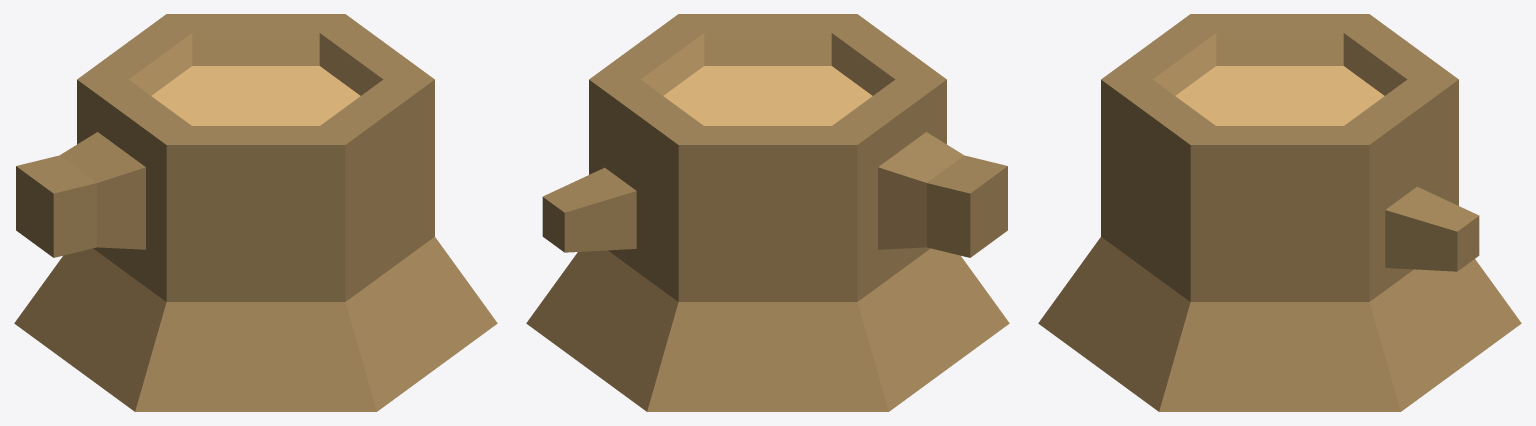
Rendered from naturePack_080.obj.
The picture shows the model from 3 angles, left to right: view 1: azimuth 30°, elevation 25°; view 2: azimuth 150°, elevation 25°; view 3: azimuth 270°, elevation 25°; orthographic projection.
Parts seen in each view (by area): view 1: Mesh1_Group1_Model.057; view 2: Mesh1_Group1_Model.057; view 3: Mesh1_Group1_Model.057.
Boxes of the visible parts, box(x1,y1,x2,y2) form: Mesh1_Group1_Model.057: box(14, 14, 497, 411); Mesh1_Group1_Model.057: box(526, 14, 1009, 411); Mesh1_Group1_Model.057: box(1038, 14, 1521, 411).
Size of the model in its own units: 1.02 by 0.59 by 1.06.
